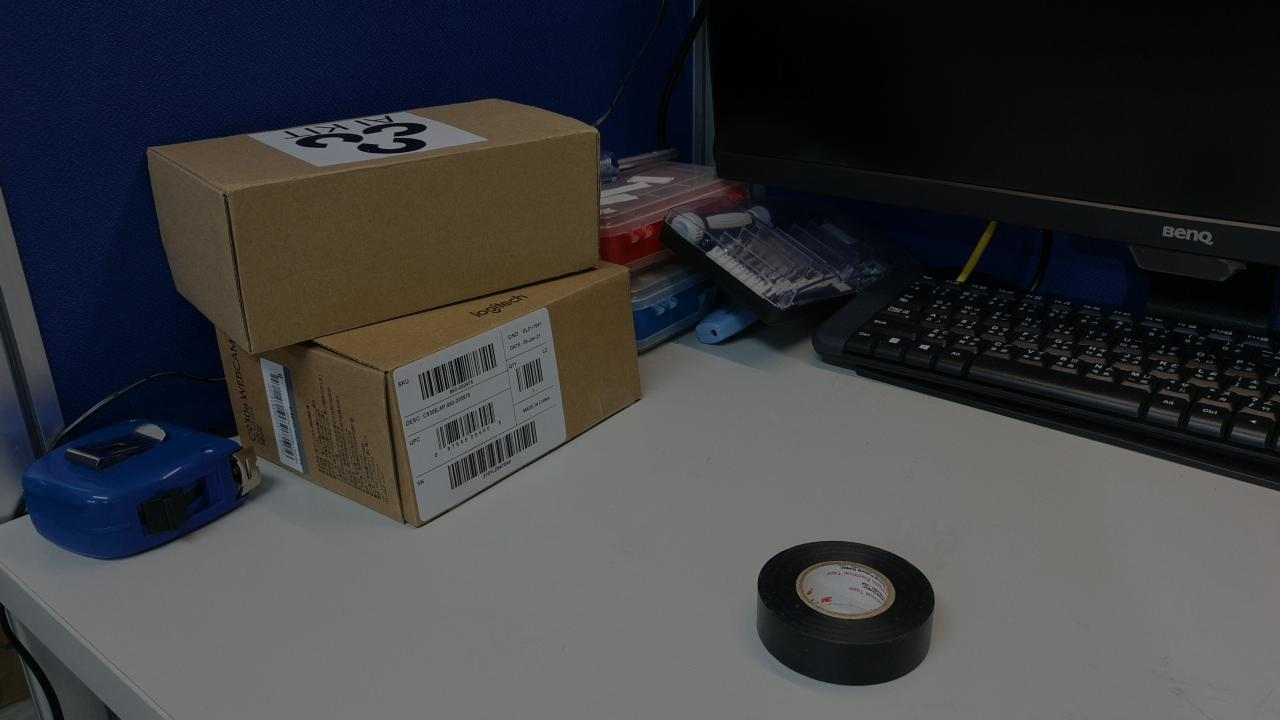columnar: (351, 216, 421, 404)
